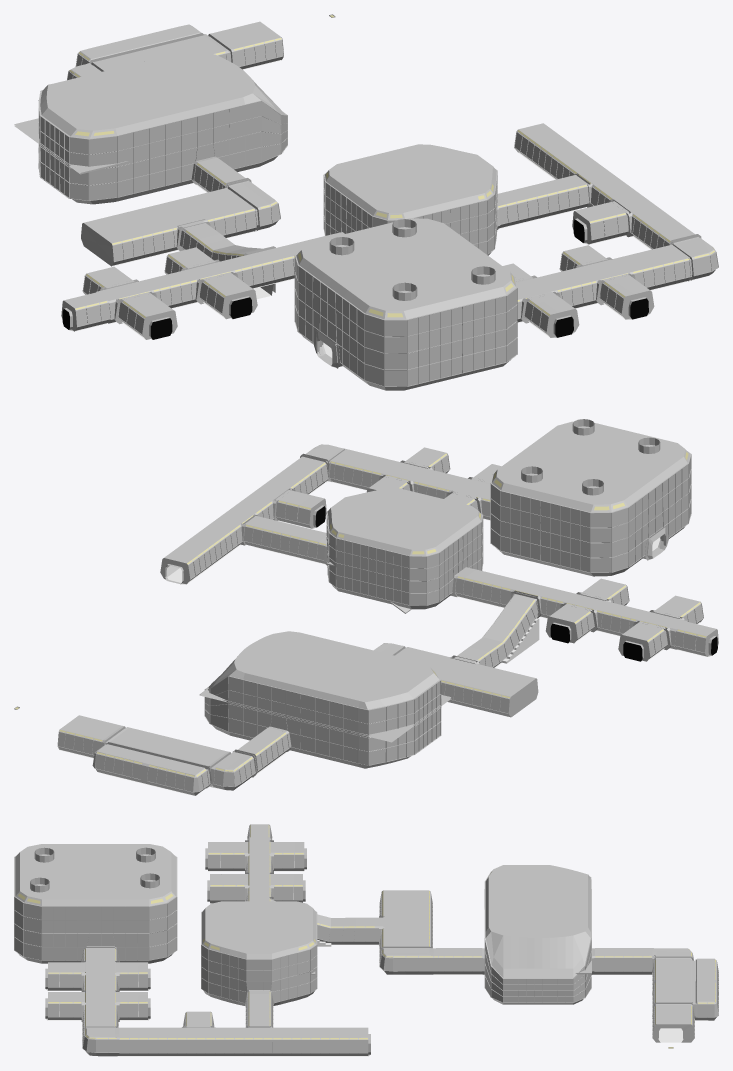
The model's file is MSH-FPS_Level.fbx.
The picture shows the model from 3 angles, top to bottom: view 1: azimuth 30°, elevation 25°; view 2: azimuth 150°, elevation 25°; view 3: azimuth 270°, elevation 25°; orthographic projection. The views are drawn at different scales.
Parts seen in each view (by area): view 1: Lambs.001; view 2: Lambs.001; view 3: Lambs.001.
Boxes of the visible parts, left/top/right/bottom form: Lambs.001: left=14, top=14, right=718, bottom=390; Lambs.001: left=14, top=419, right=718, bottom=795; Lambs.001: left=14, top=824, right=718, bottom=1056.
Size of the model in its own units: 9658 by 1875 by 13286.
